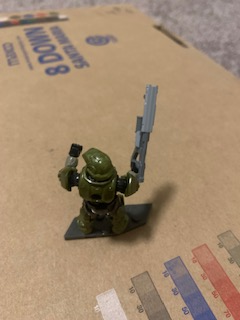soldier: (53, 82, 161, 238)
